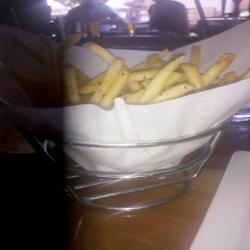fries: (17, 33, 249, 124)
